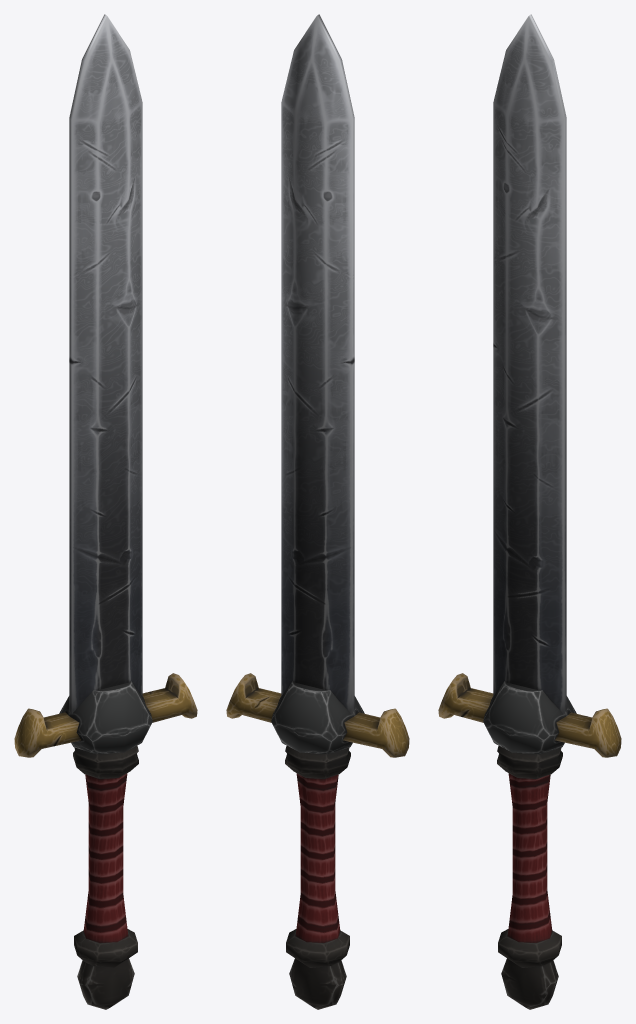
The model's file is weapon_sword_1.glb.
The picture shows the model from 3 angles, left to right: view 1: azimuth 30°, elevation 25°; view 2: azimuth 150°, elevation 25°; view 3: azimuth 330°, elevation 25°; orthographic projection.
Parts seen in each view (by area): view 1: Sword1_1_1; view 2: Sword1_1_1; view 3: Sword1_1_1.
Part boxes in pixels (box(x1,y1,x2,y2)): Sword1_1_1: box(14, 14, 197, 1009); Sword1_1_1: box(226, 14, 409, 1009); Sword1_1_1: box(438, 14, 621, 1009).
Bounding box in the file's own units: 0.2163 × 1.18 × 0.0853.
Materials: 1 (1 with a texture image).
